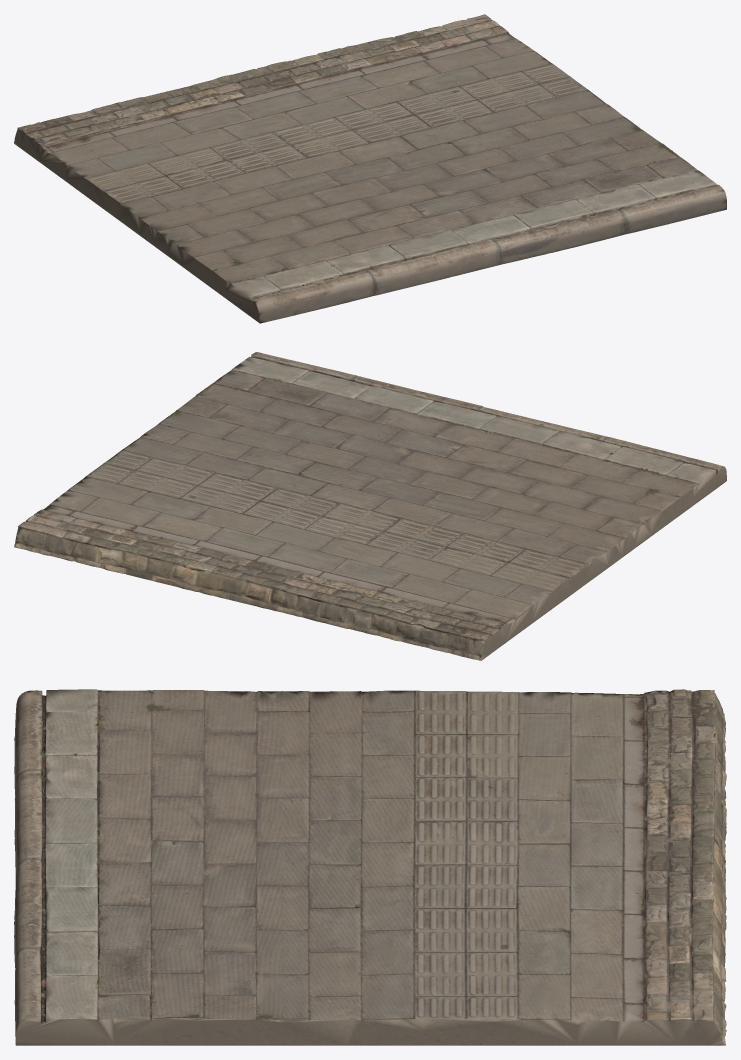
File: PX_Sidewalk_02_LOD1.fbx
3 views of the same model, one above another, from view 1: azimuth 30°, elevation 25°; view 2: azimuth 150°, elevation 25°; view 3: azimuth 270°, elevation 25° (orthographic). The views are drawn at different scales.
Visible parts, largest first — view 1: PX_Sidewalk_02_LOD1; view 2: PX_Sidewalk_02_LOD1; view 3: PX_Sidewalk_02_LOD1.
Boxes of the visible parts, left/top/right/bottom form: PX_Sidewalk_02_LOD1: left=14, top=14, right=726, bottom=323; PX_Sidewalk_02_LOD1: left=14, top=352, right=726, bottom=660; PX_Sidewalk_02_LOD1: left=14, top=689, right=726, bottom=1045.
Size of the model in its own units: 271 by 11.72 by 249.
